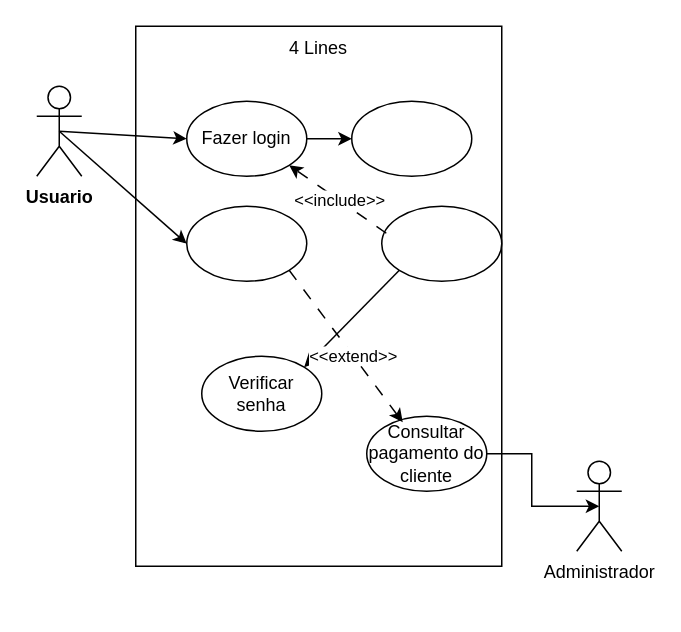
The diagram is 681 pixels wide and 632 high, and some of its shapes have lost their labels. Each missing label, with the box of its shape:
Exibir erro: (380, 205, 502, 281)
Fazer pagamento da loja: (185, 205, 307, 281)
Ir para a tela principal: (350, 100, 472, 176)
